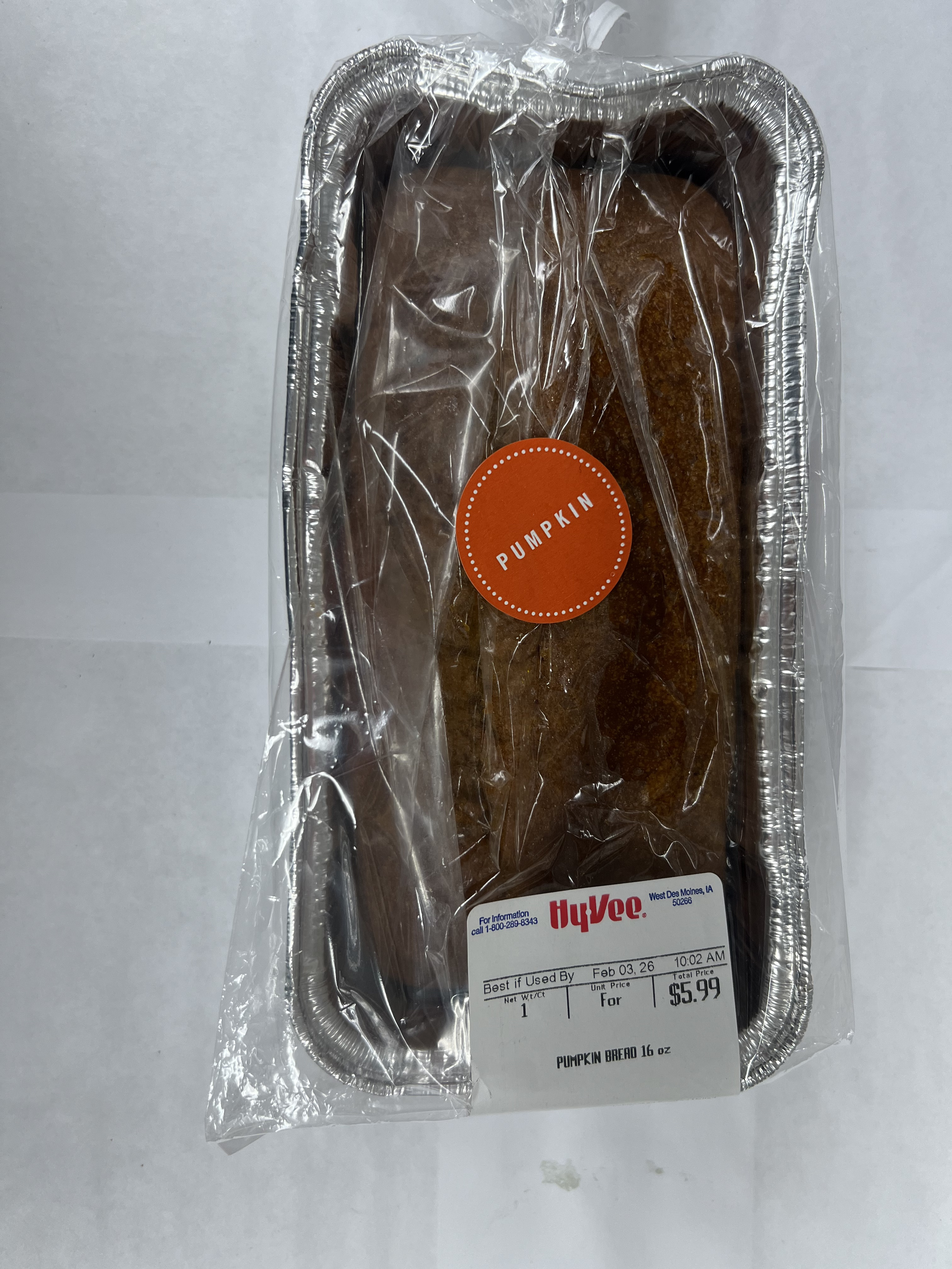bakery: (284, 45, 813, 1102)
